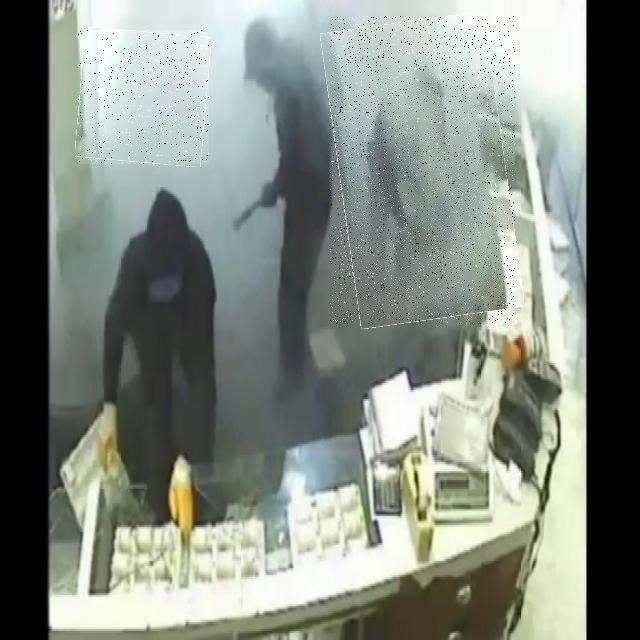smoke: (330, 16, 515, 324), (78, 30, 209, 164)
